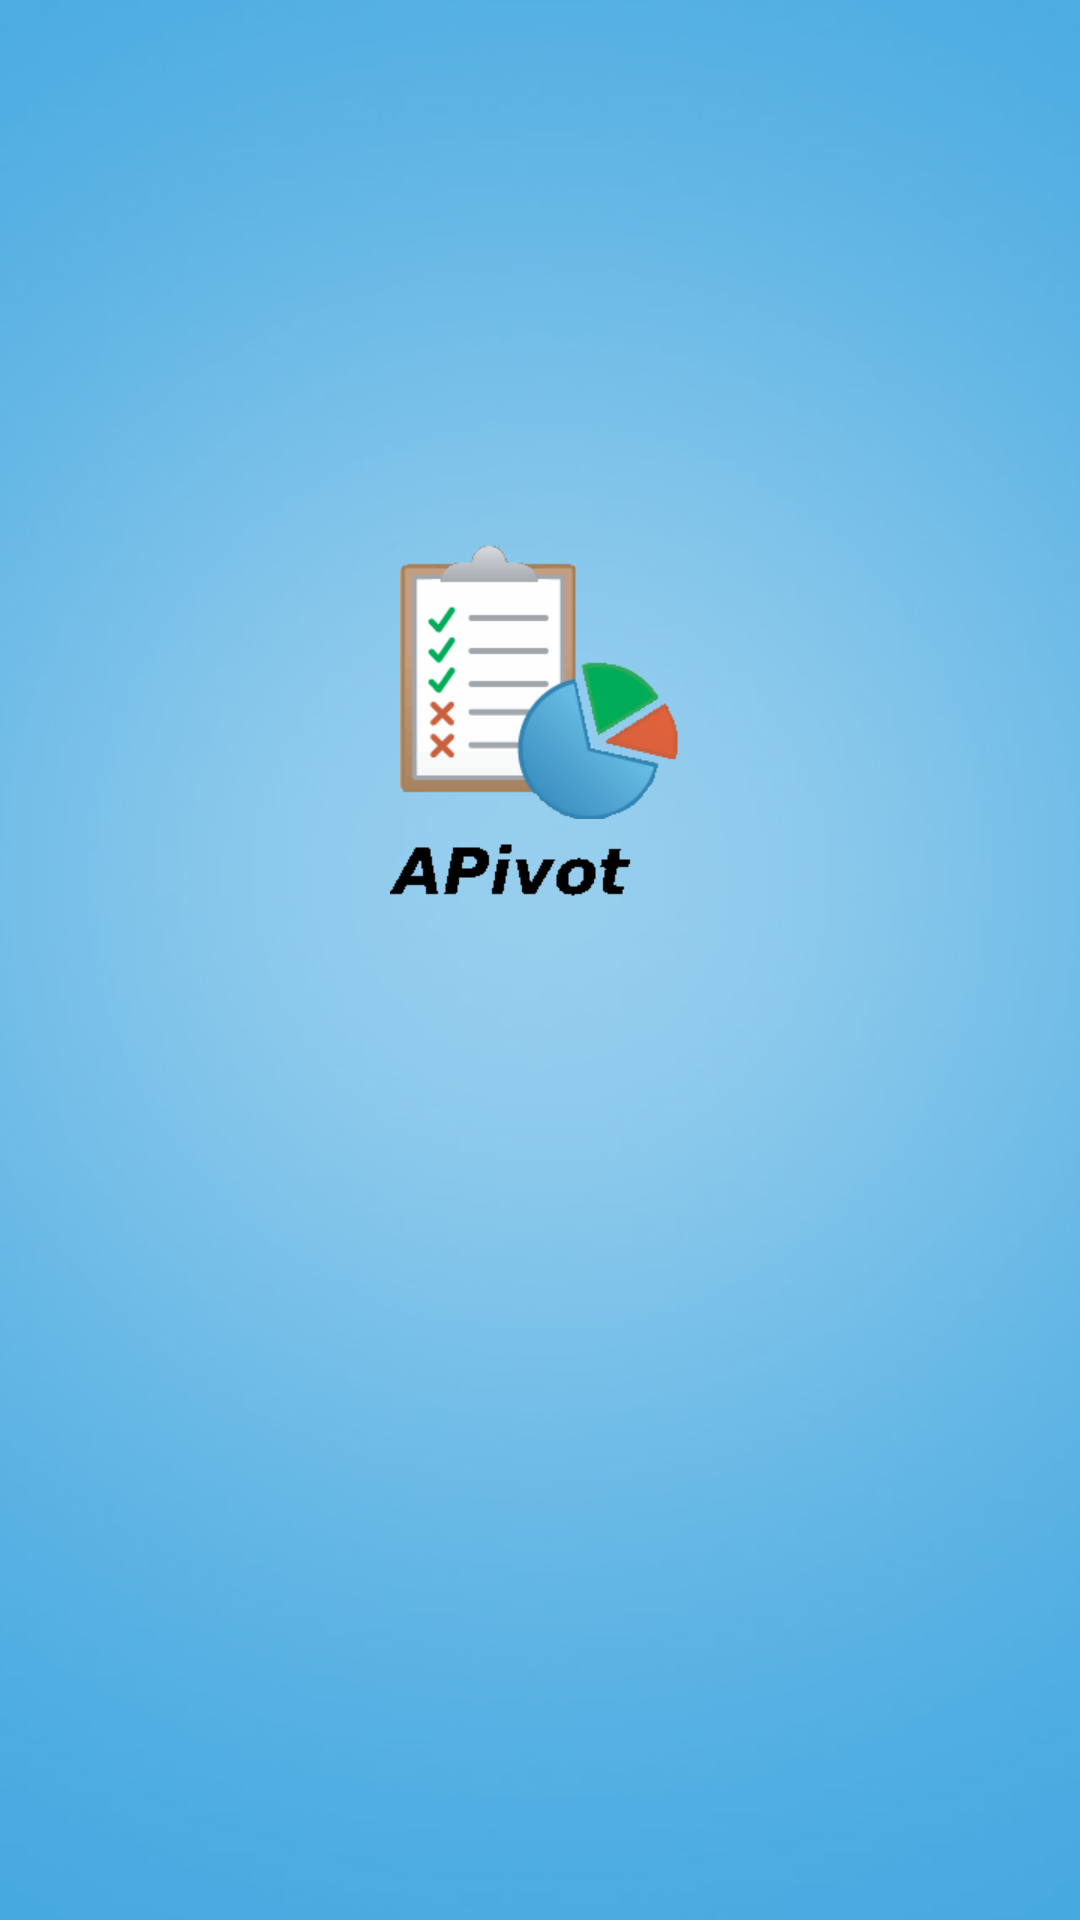

Point at icon controls on the screen. Image size 1080px×1920px, points as (x=x, y=y).
report: (x=539, y=682)
